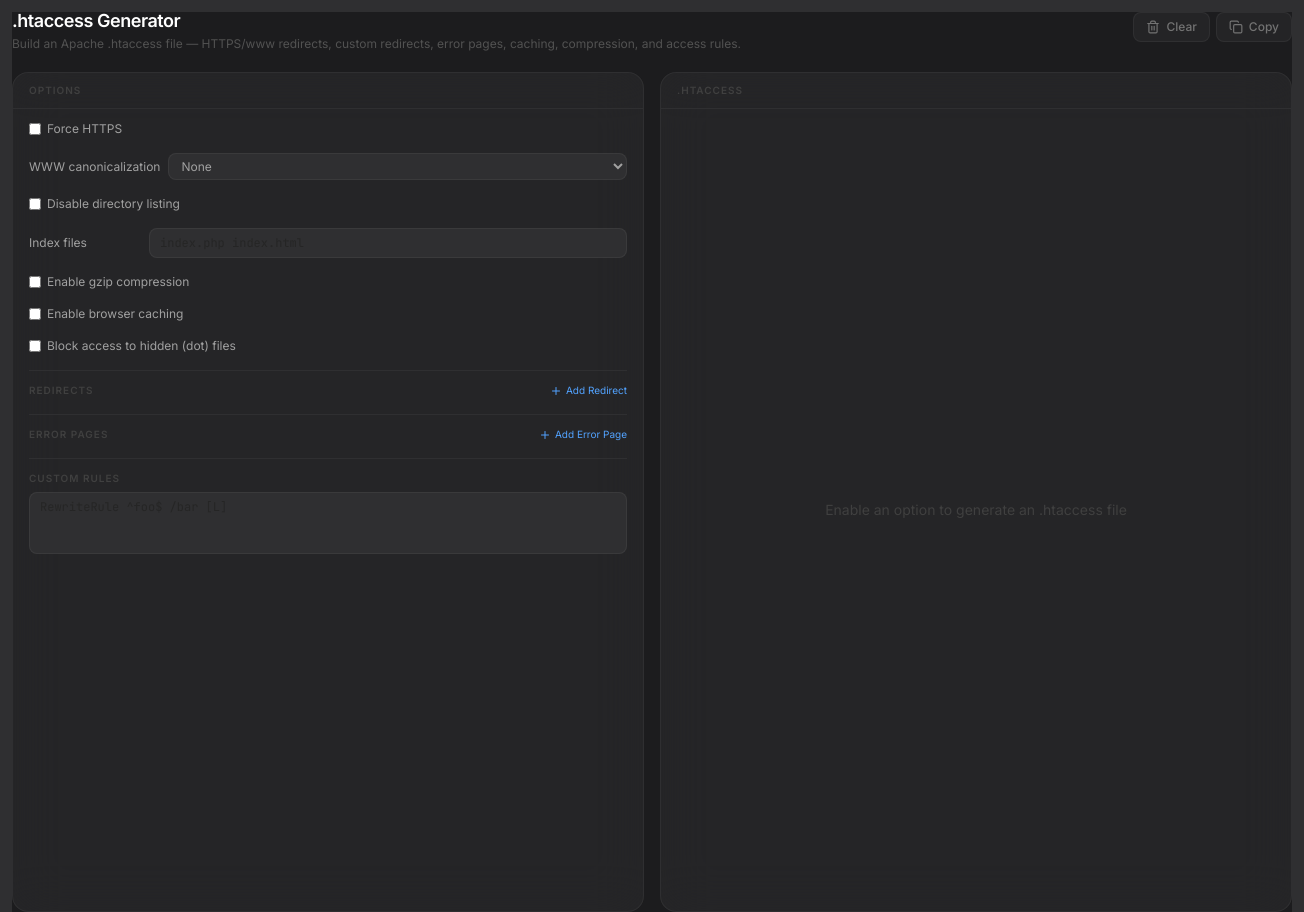
Test: HtaccessGenerator › clears all options
What coordinates should you click on to do the following:
click the checkbox labelled "Force HTTPS"
I would click on:
 (35, 129)
Its box is [29,123,41,135].
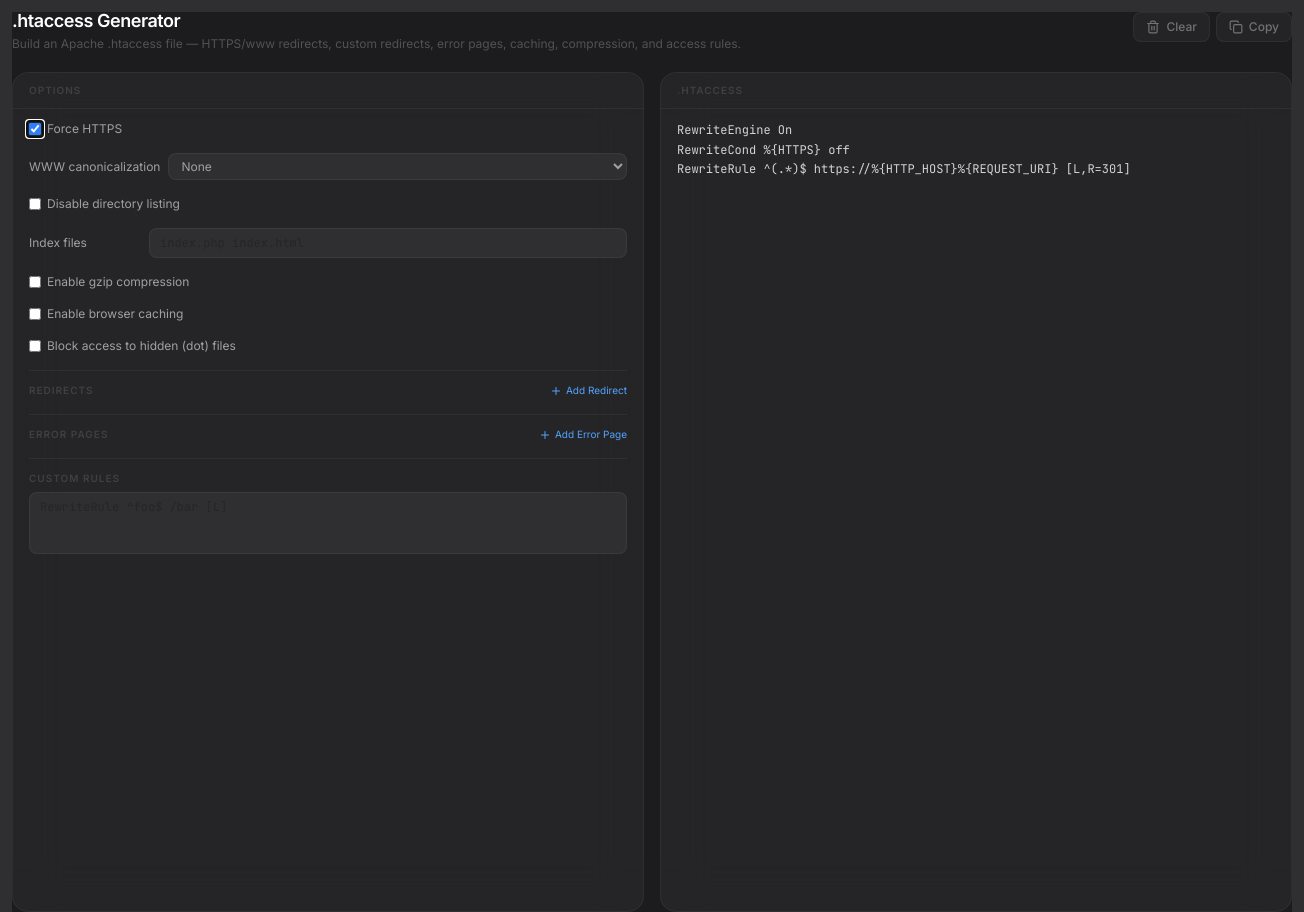
What coordinates should you click on to do the following:
click the button titled "Clear all"
I would click on:
 (1172, 27)
Its box is [1133,12,1210,42].
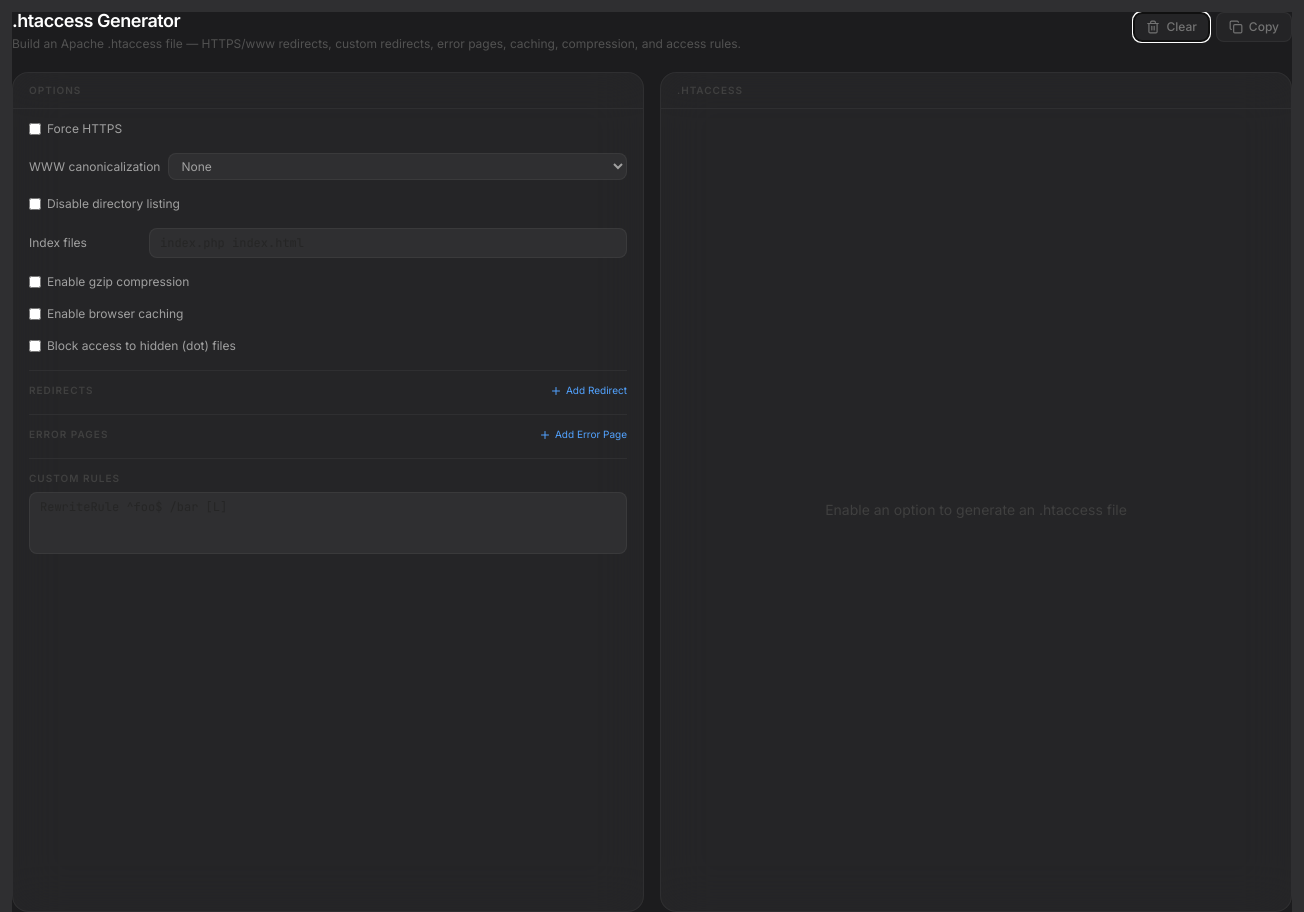
Now the text "Enable an option to generate an .htaccess file" is shown, box [825,500,1127,520]
